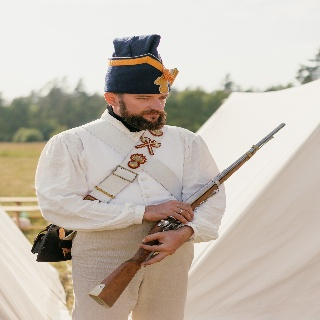rifle: (88, 120, 288, 310)
